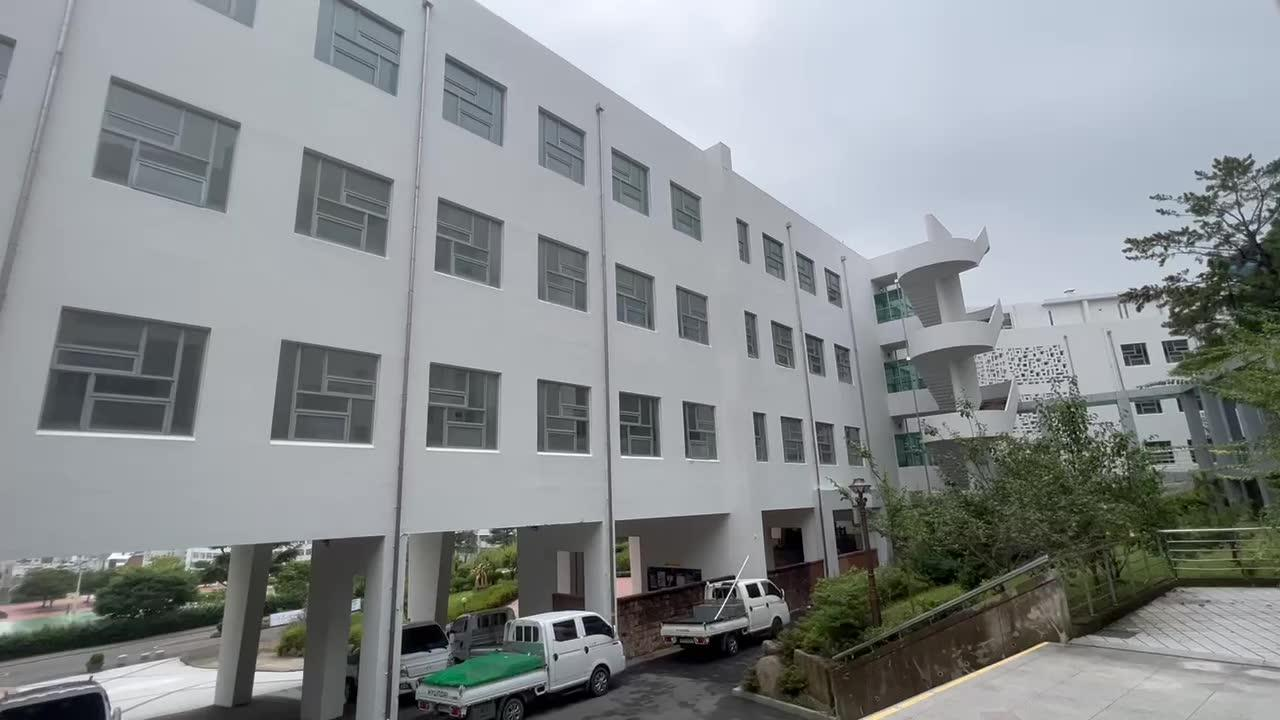building: (56, 10, 827, 513)
